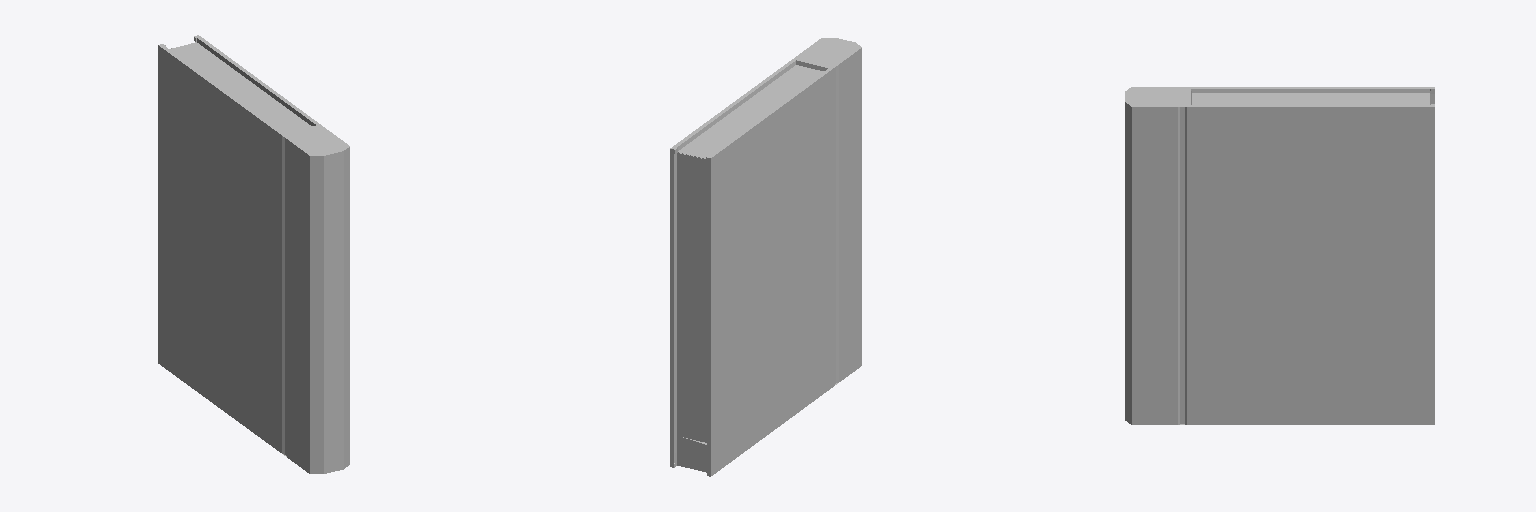
File: BOEK.obj
3 renders of one model, left to right at view 1: azimuth 30°, elevation 25°; view 2: azimuth 150°, elevation 25°; view 3: azimuth 270°, elevation 25°, orthographic.
Parts seen in each view (by area): view 1: Cube; view 2: Cube; view 3: Cube.
Boxes of the visible parts, x1=… form: Cube: x1=158, y1=35, x2=349, y2=473; Cube: x1=670, y1=38, x2=861, y2=476; Cube: x1=1125, y1=87, x2=1434, y2=424.
Size of the model in its own units: 0.0633 by 0.4725 by 0.4173.